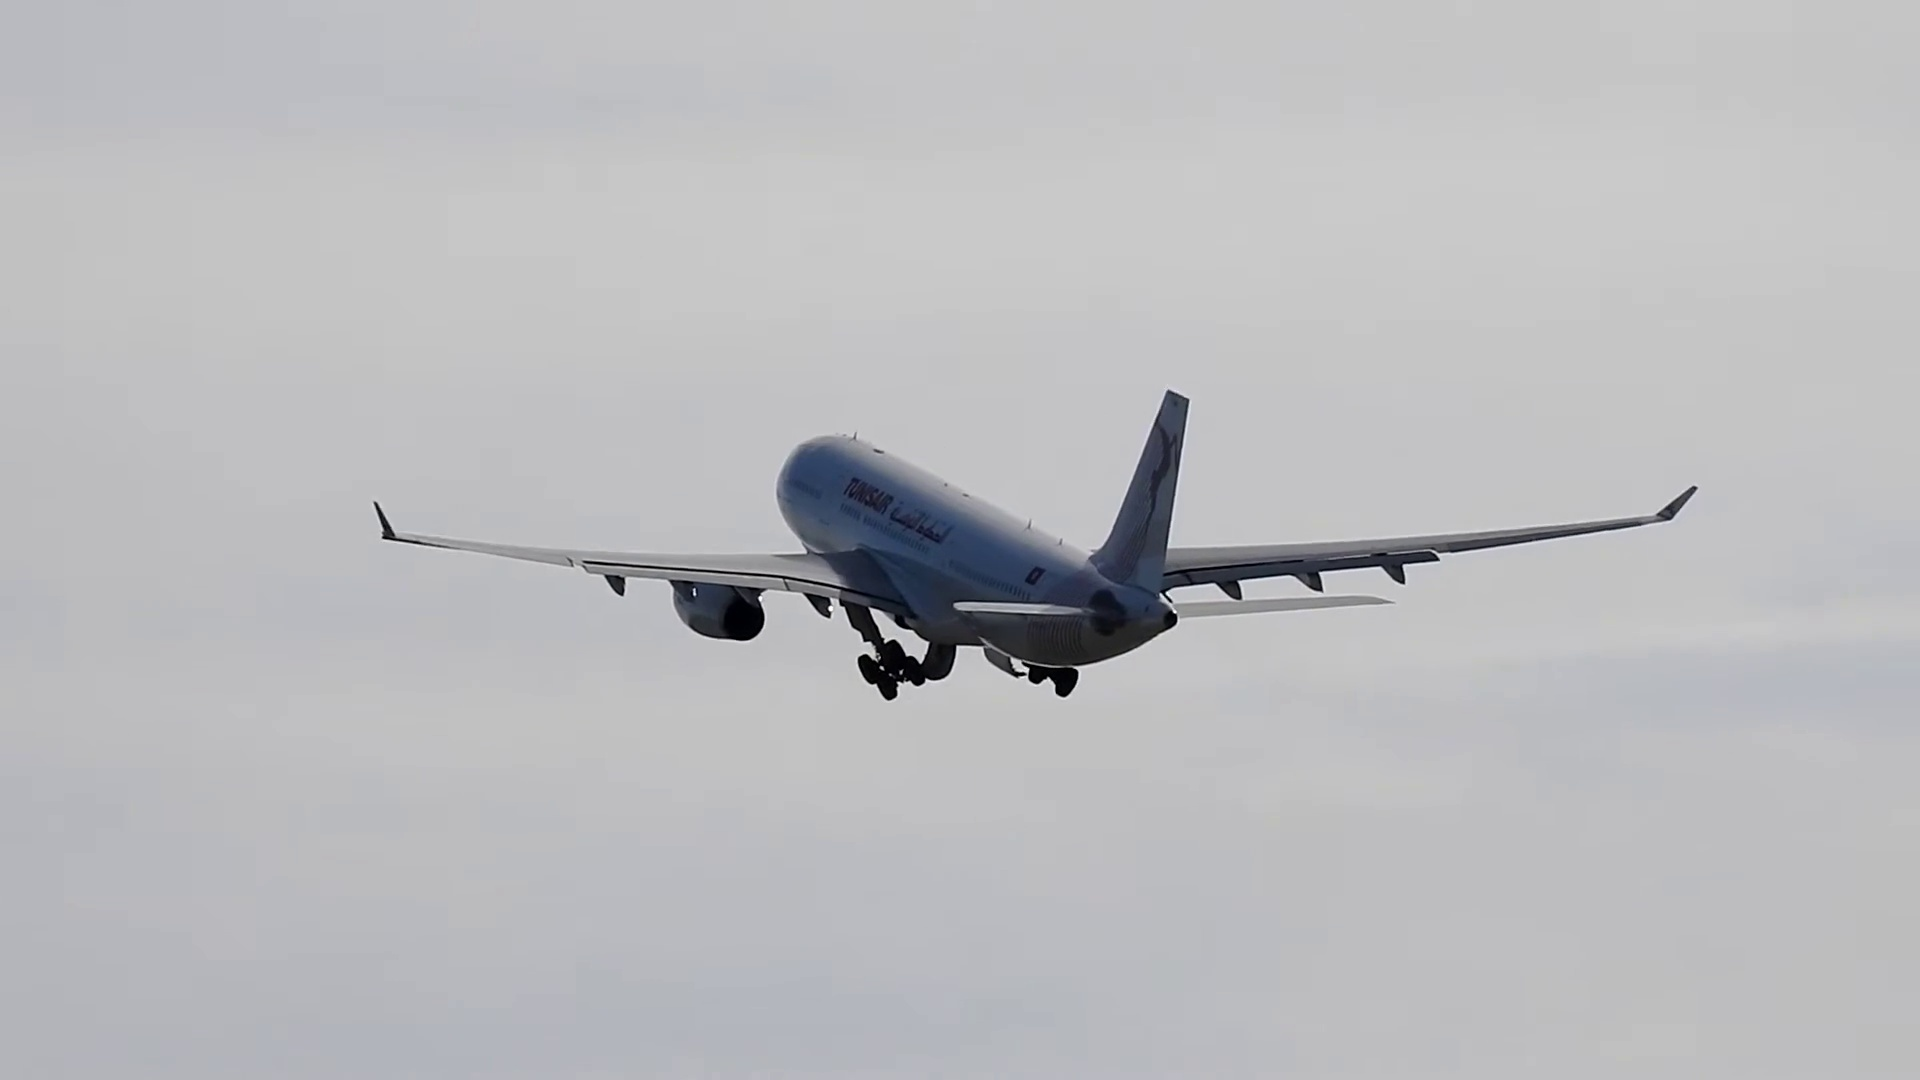Airplane: (369, 388, 1701, 702)
